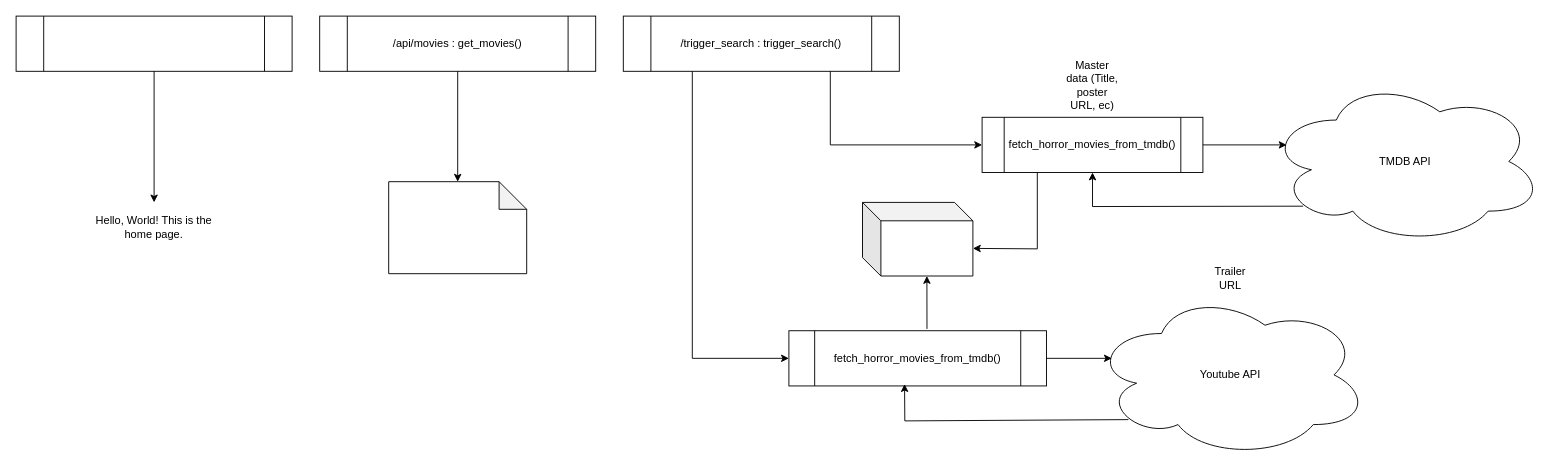
The diagram is 1559 pixels wide and 474 high, and some of its shapes have lost their labels. The centre of each missing label's shape, as x and y in pixels:
"/ : hello_world()" goes at [153,43].
"jsonify(movies_list)" goes at [457,227].
"movie" goes at [917,238].
